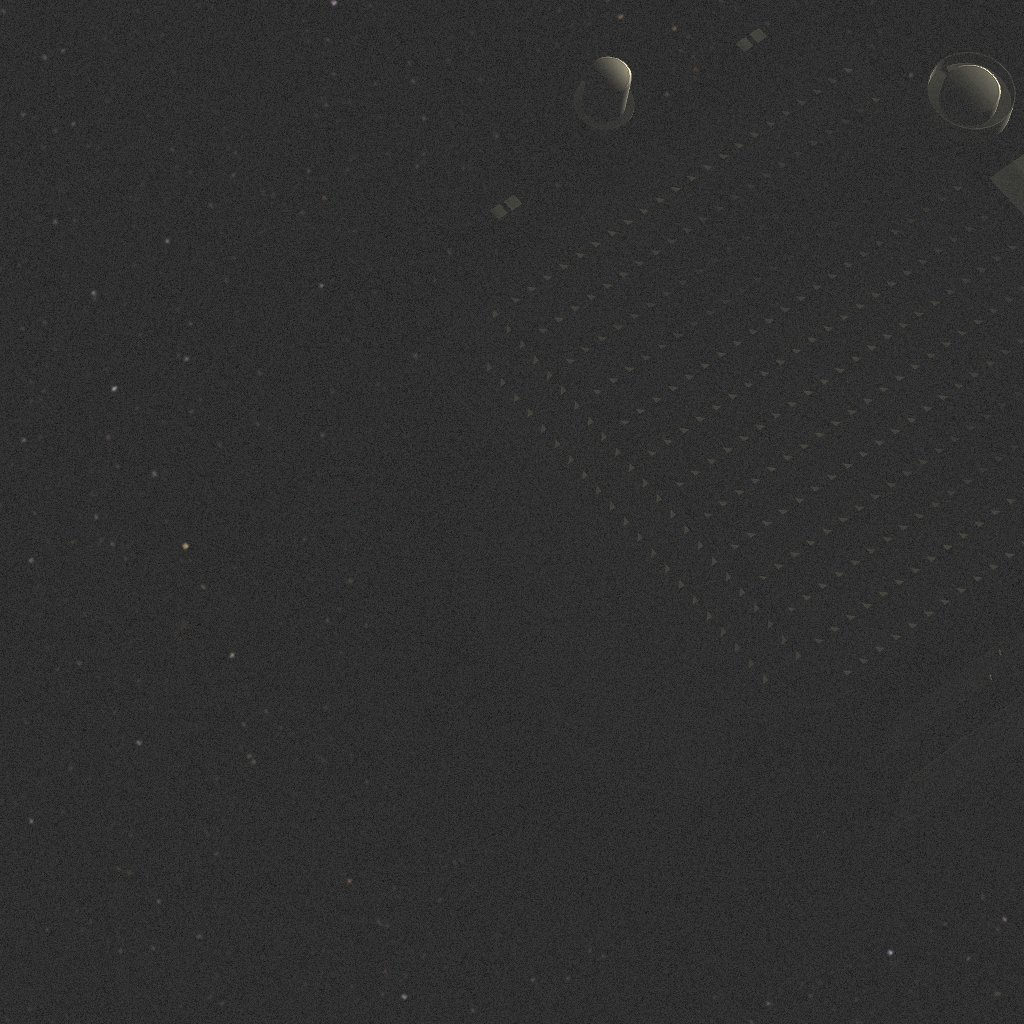proba_3_ocs: (366, 16, 1024, 964)
